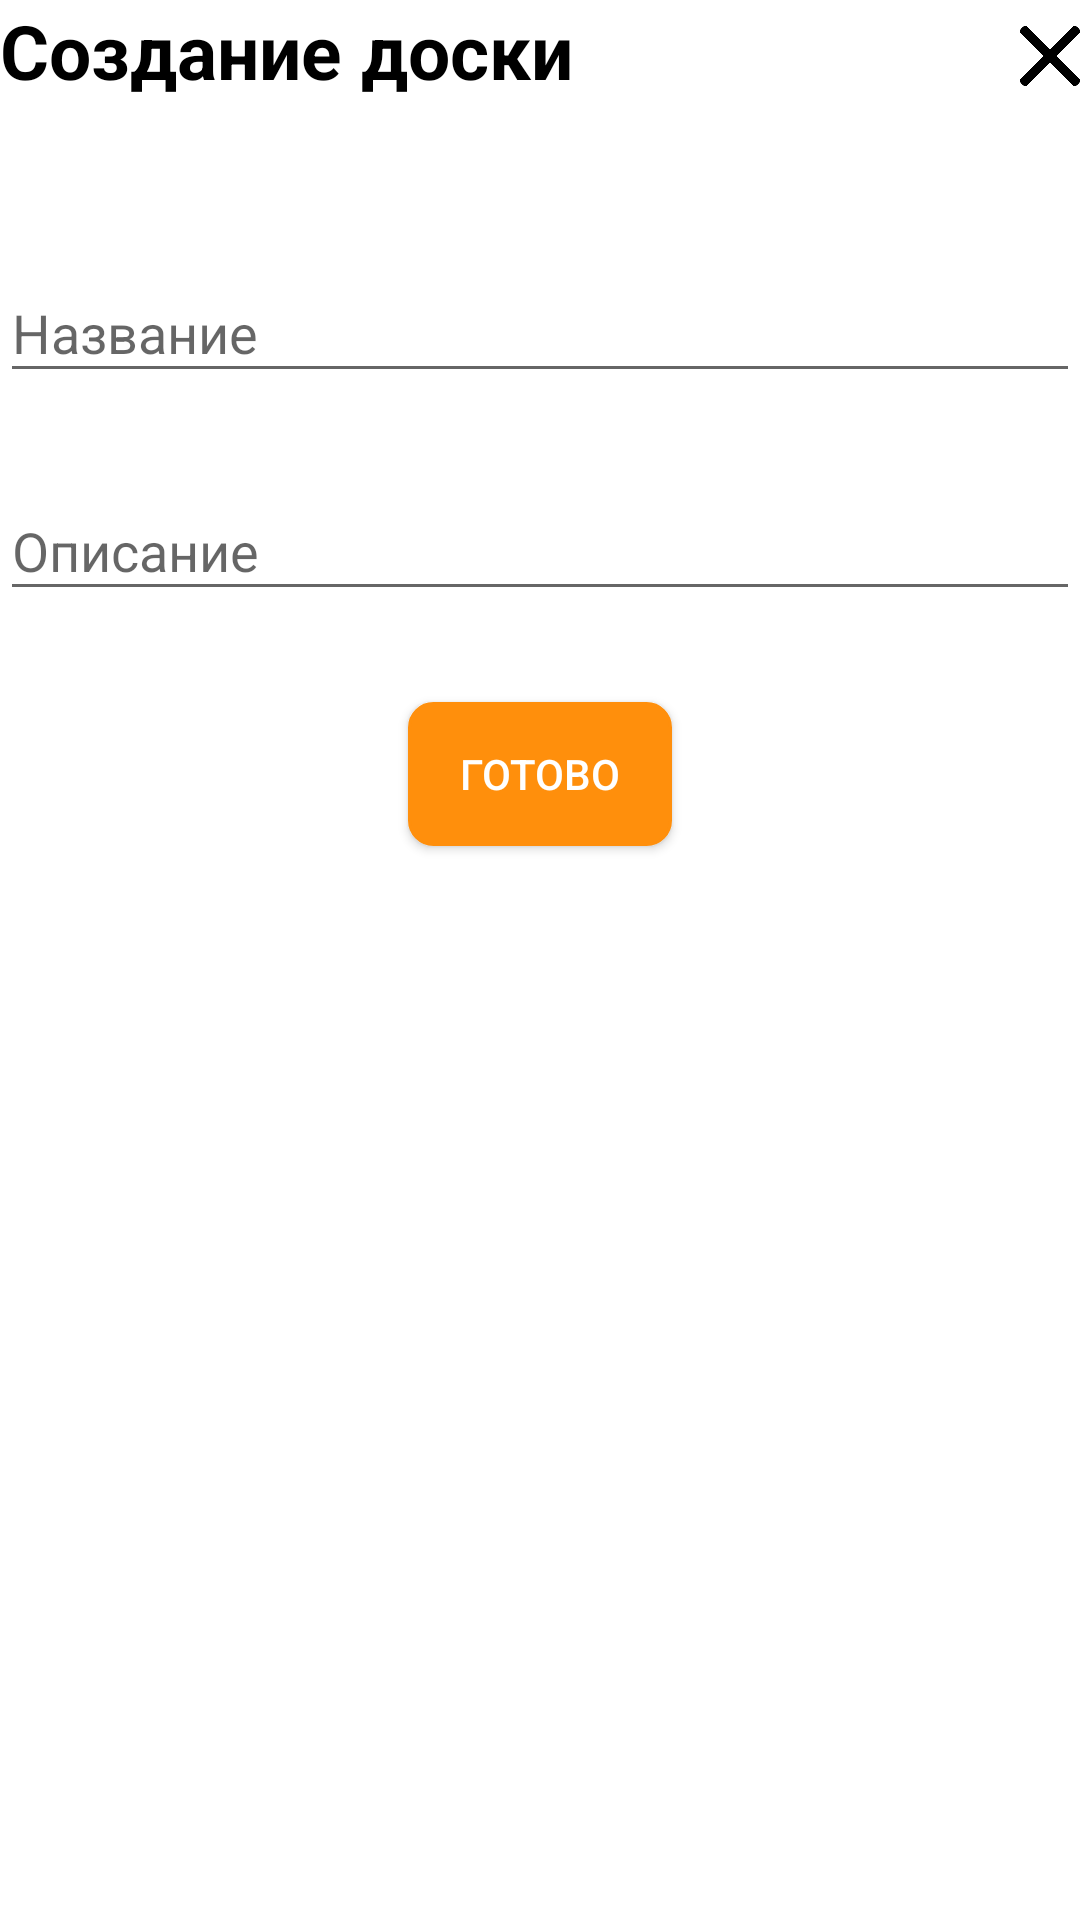

Where icons sit on this 1080*1920 app screen, as (x1, y1, x2, y2):
close: (1020, 26, 1080, 86)
